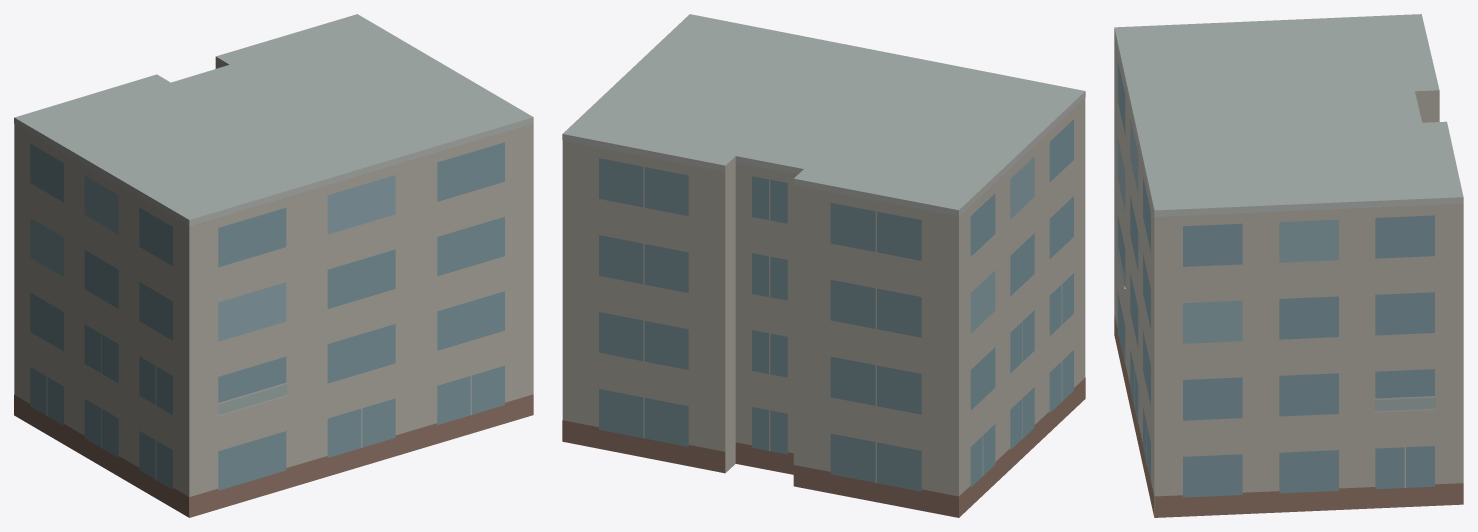
Rendered from survey-upis-32681824.glb.
3 renders of one model, left to right at view 1: azimuth 30°, elevation 25°; view 2: azimuth 150°, elevation 25°; view 3: azimuth 270°, elevation 25°, orthographic. The views are drawn at different scales.
Parts seen in each view (by area): view 1: survey-upis-32681824.tmp; view 2: survey-upis-32681824.tmp; view 3: survey-upis-32681824.tmp.
Boxes of the visible parts, x1,y1,x2,y2 form: survey-upis-32681824.tmp: [14, 14, 533, 517]; survey-upis-32681824.tmp: [562, 14, 1085, 517]; survey-upis-32681824.tmp: [1114, 14, 1463, 517].
Size of the model in its own units: 15.91 by 11.6 by 11.95.
